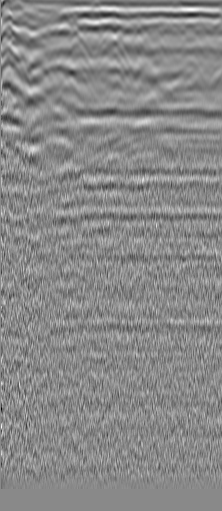오수: (24, 53, 44, 73)
우수: (178, 17, 198, 37)
